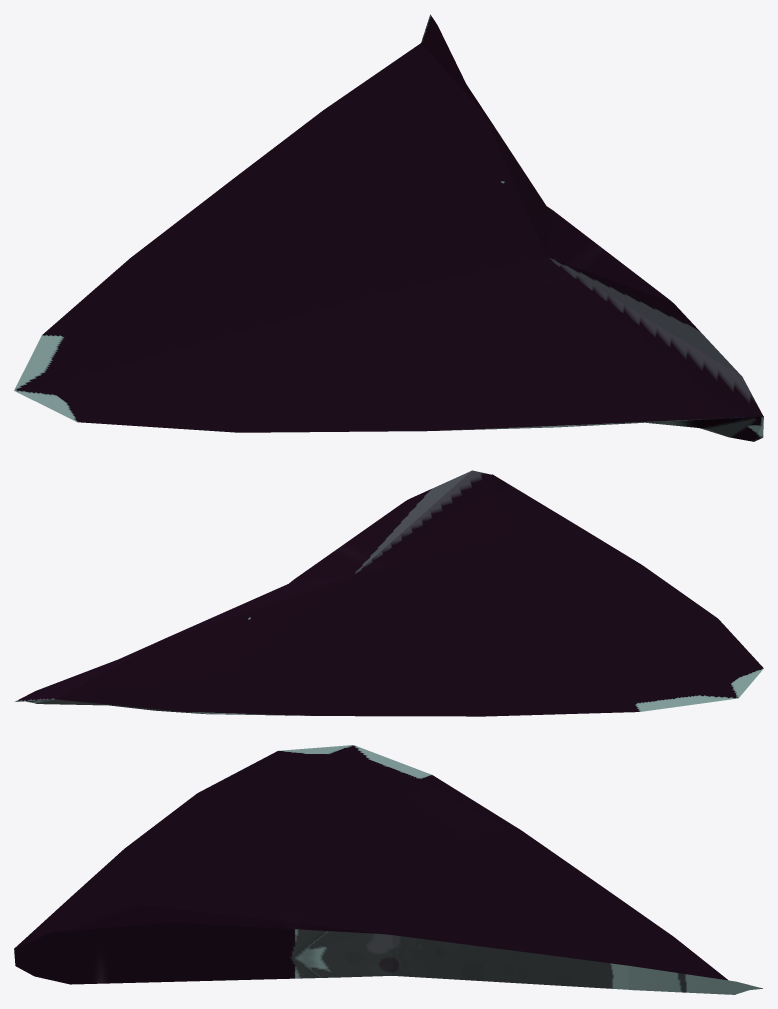
Rendered from right-hand.obj.
3 renders of one model, top to bottom at view 1: azimuth 30°, elevation 25°; view 2: azimuth 150°, elevation 25°; view 3: azimuth 270°, elevation 25°, orthographic. The views are drawn at different scales.
Parts seen in each view (by area): view 1: right-hand; view 2: right-hand; view 3: right-hand.
Part boxes in pixels (bbox=[...]): right-hand: bbox=[14, 14, 763, 441]; right-hand: bbox=[15, 470, 763, 716]; right-hand: bbox=[14, 745, 762, 994].
Bounding box in the file's own units: 8.38 × 0.9645 × 10.21.
Materials: 1 (1 with a texture image).
